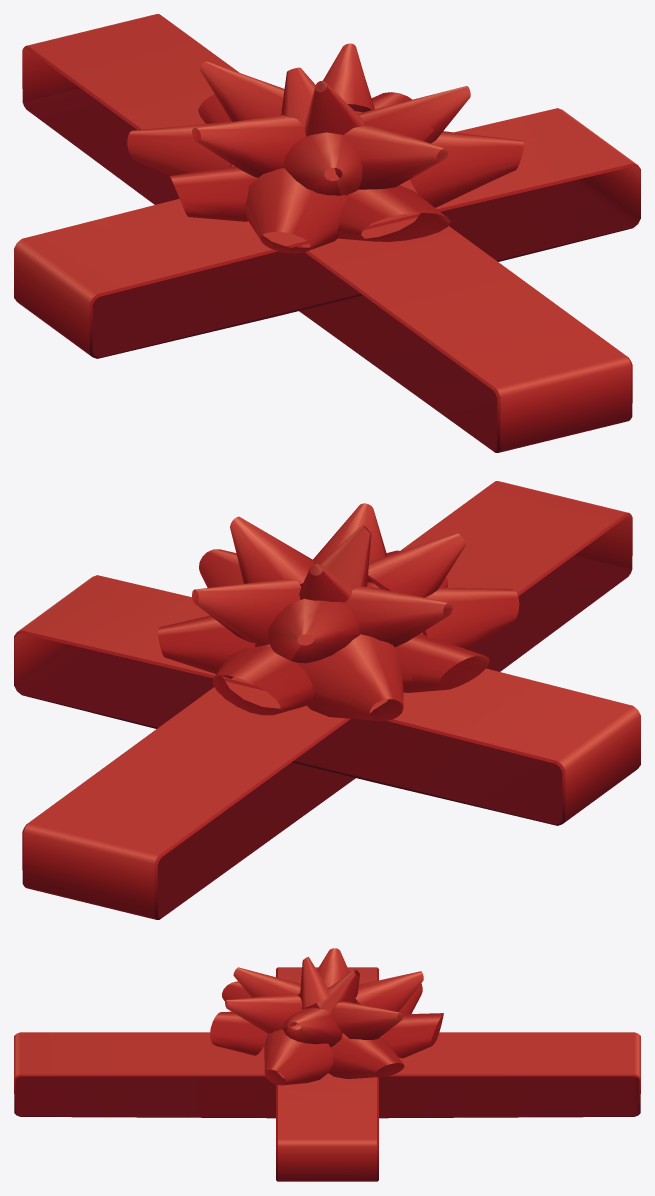
The model's file is ribbon.glb.
3 renders of one model, top to bottom at view 1: azimuth 30°, elevation 25°; view 2: azimuth 150°, elevation 25°; view 3: azimuth 270°, elevation 25°, orthographic. The views are drawn at different scales.
Visible parts, largest first — view 1: Ribbon_Ribbon_0; view 2: Ribbon_Ribbon_0; view 3: Ribbon_Ribbon_0.
Boxes of the visible parts, x1,y1,x2,y2 form: Ribbon_Ribbon_0: [14, 14, 640, 452]; Ribbon_Ribbon_0: [14, 481, 640, 919]; Ribbon_Ribbon_0: [14, 948, 640, 1181].
Bounding box in the file's own units: 30.72 × 10.83 × 46.03.
Materials: 1 (1 with a texture image).
